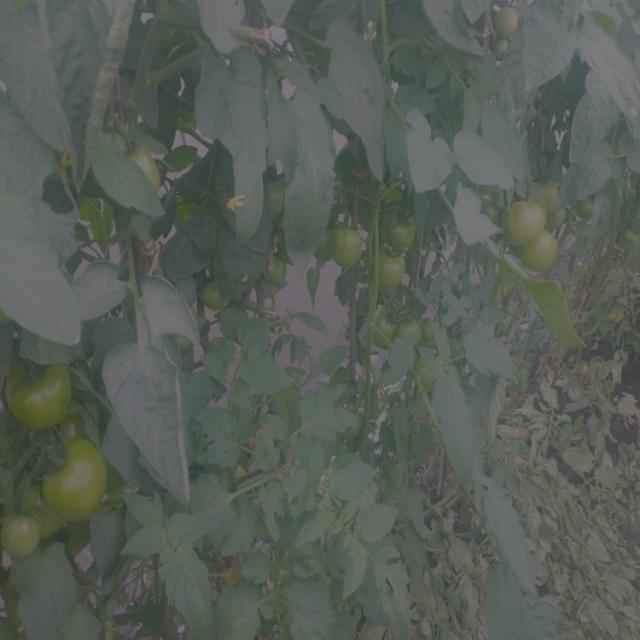tomato: (1, 354, 74, 430), (42, 447, 111, 527), (506, 182, 565, 270), (115, 128, 170, 197), (325, 221, 366, 276), (2, 506, 41, 557), (385, 200, 423, 244), (416, 346, 452, 388), (262, 247, 293, 290), (373, 254, 405, 293), (197, 279, 236, 310), (267, 180, 292, 223), (369, 310, 394, 348), (496, 4, 524, 34), (398, 318, 424, 342), (574, 194, 594, 221), (491, 38, 515, 58)
